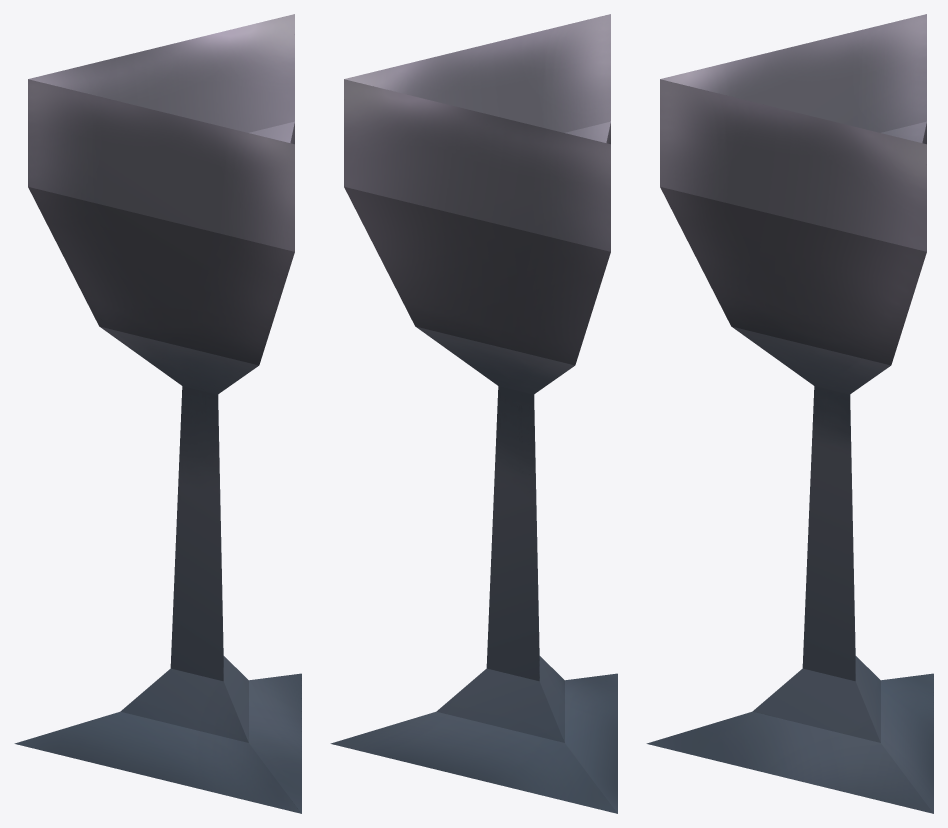
Rendered from cup.obj.
3 views of the same model, side by side, from view 1: azimuth 30°, elevation 25°; view 2: azimuth 150°, elevation 25°; view 3: azimuth 270°, elevation 25° (orthographic).
Parts seen in each view (by area): view 1: Copa.002_Circle.008; view 2: Copa.002_Circle.008; view 3: Copa.002_Circle.008.
Boxes of the visible parts, left/top/right/bottom form: Copa.002_Circle.008: left=14, top=14, right=301, bottom=813; Copa.002_Circle.008: left=330, top=14, right=617, bottom=813; Copa.002_Circle.008: left=646, top=14, right=933, bottom=813.
Bounding box in the file's own units: 0.1631 × 0.3598 × 0.1413.
